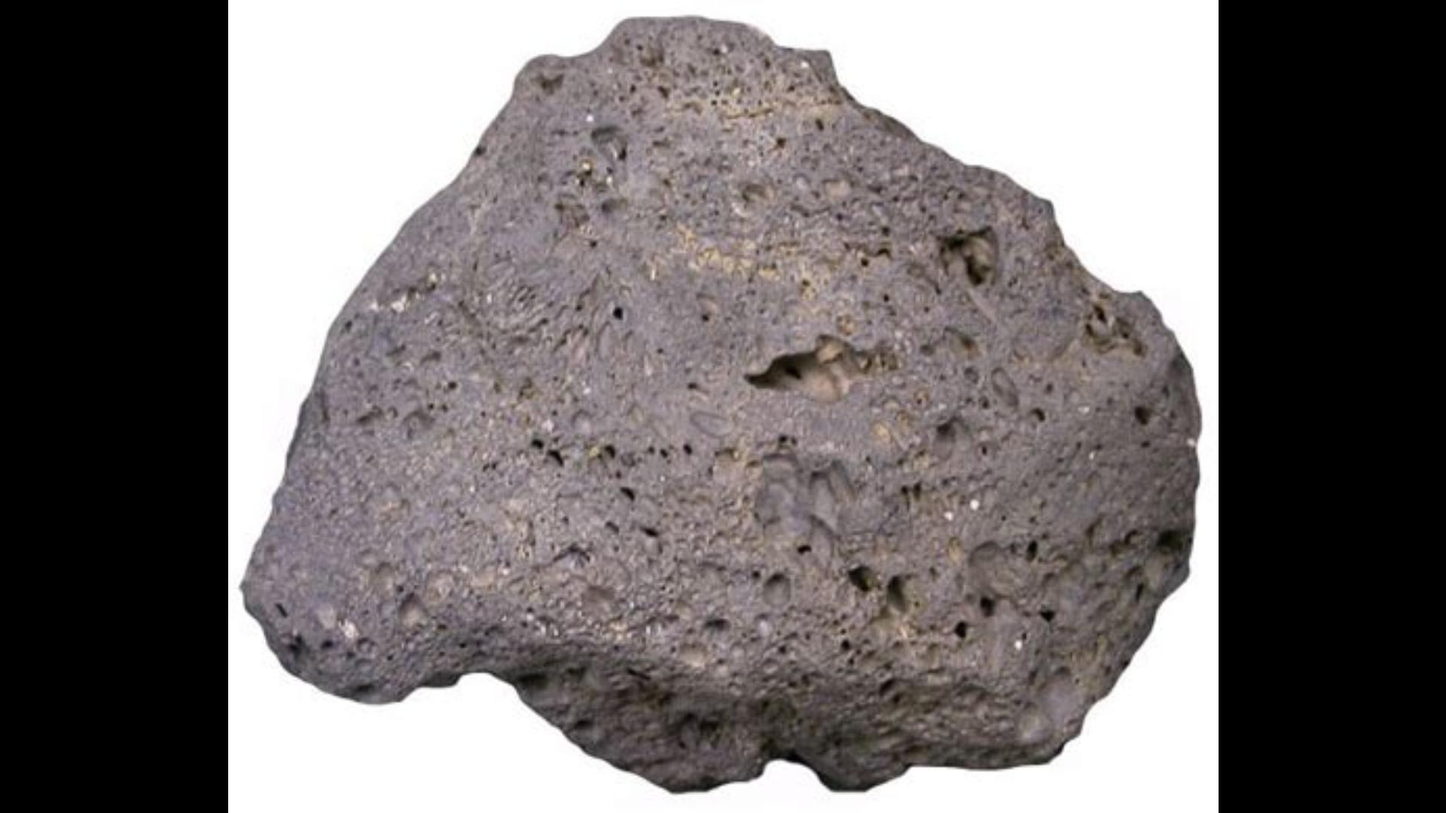rock: (242, 19, 1198, 788)
